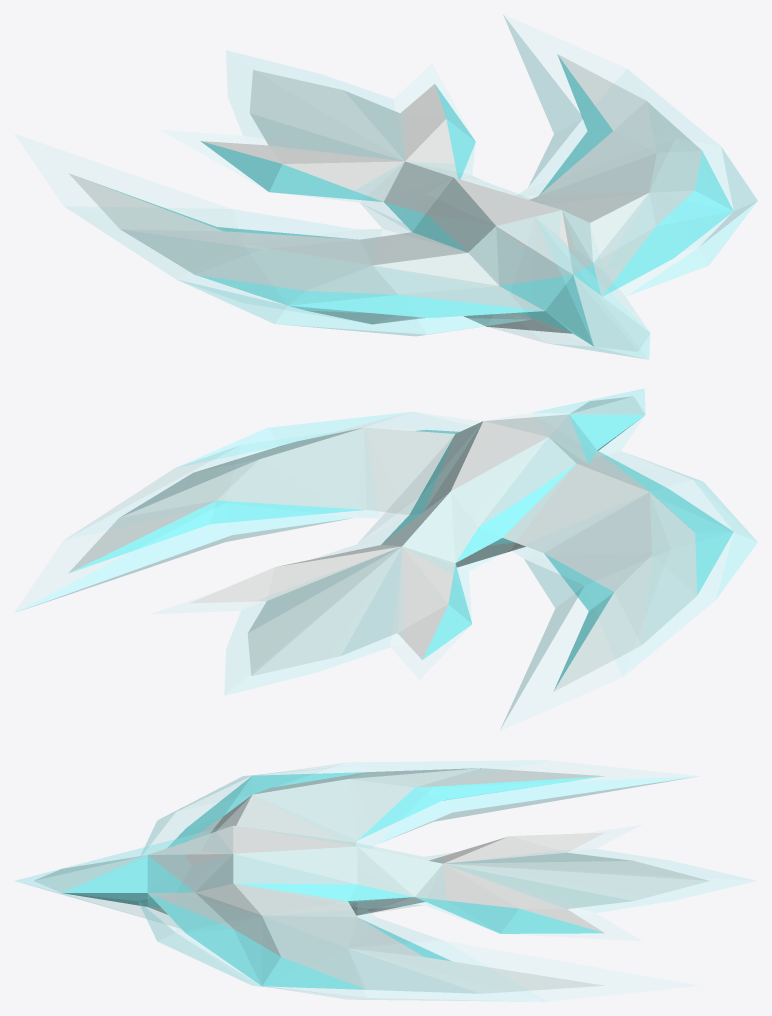
Rendered from acb_spec.glb.
3 renders of one model, top to bottom at view 1: azimuth 30°, elevation 25°; view 2: azimuth 150°, elevation 25°; view 3: azimuth 270°, elevation 25°, orthographic. The views are drawn at different scales.
Bounding box in the file's own units: 59.99 × 12 × 78.
2 materials, 2 textured.
